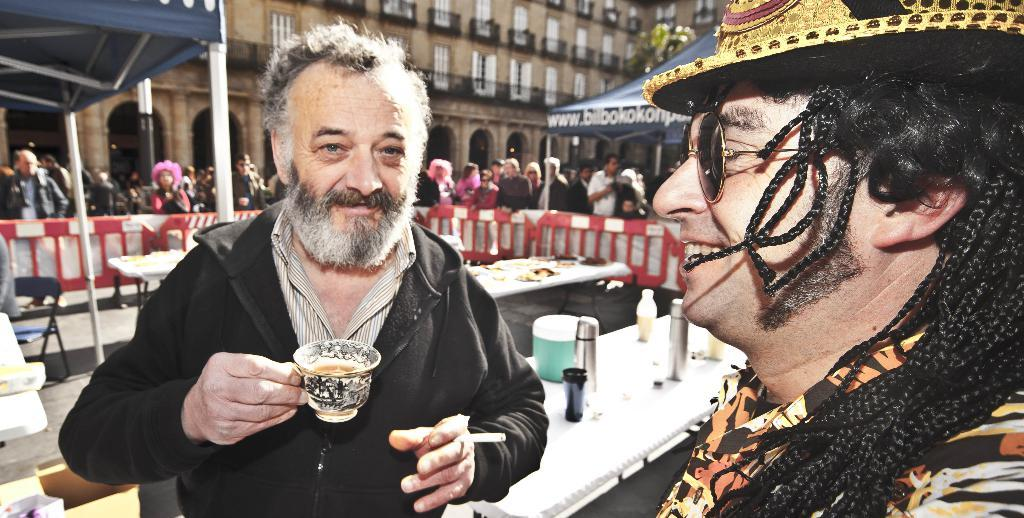Hat: (640, 0, 1023, 117), (148, 160, 185, 188)
